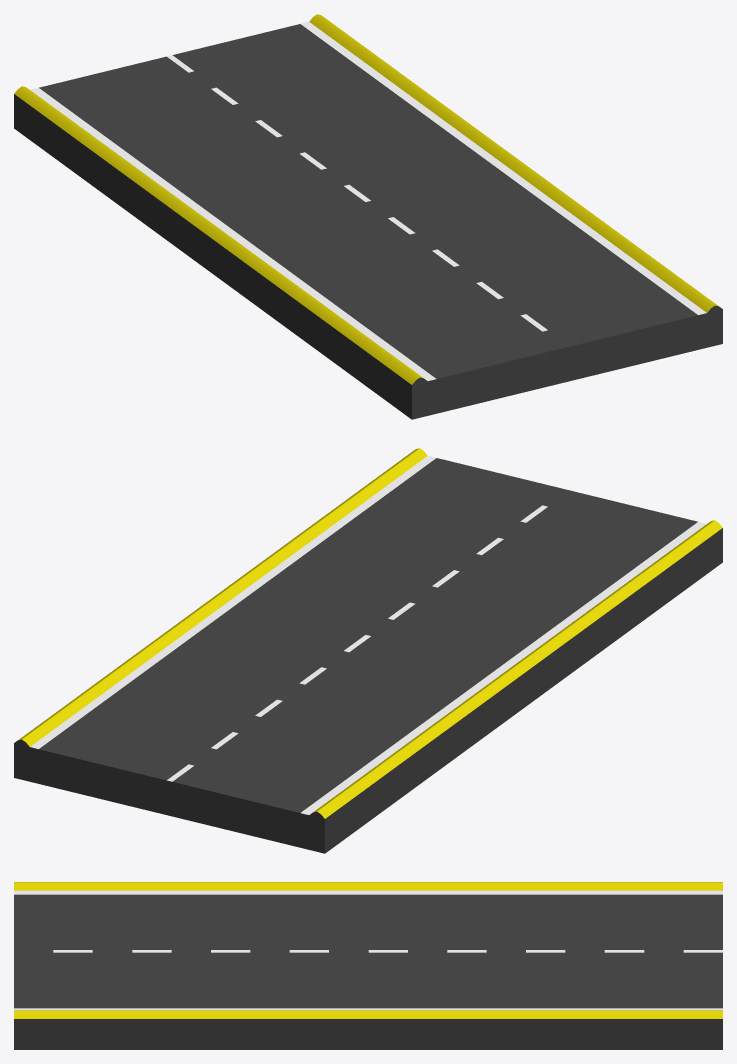
File: platform1.fbx
3 renders of one model, top to bottom at view 1: azimuth 30°, elevation 25°; view 2: azimuth 150°, elevation 25°; view 3: azimuth 270°, elevation 25°, orthographic. The views are drawn at different scales.
Visible parts, largest first — view 1: Cube; view 2: Cube; view 3: Cube.
Part boxes in pixels (bbox=[...]): Cube: bbox=[14, 14, 722, 419]; Cube: bbox=[14, 448, 722, 853]; Cube: bbox=[14, 882, 722, 1049].
Size of the model in its own units: 572 by 70.81 by 1267.
